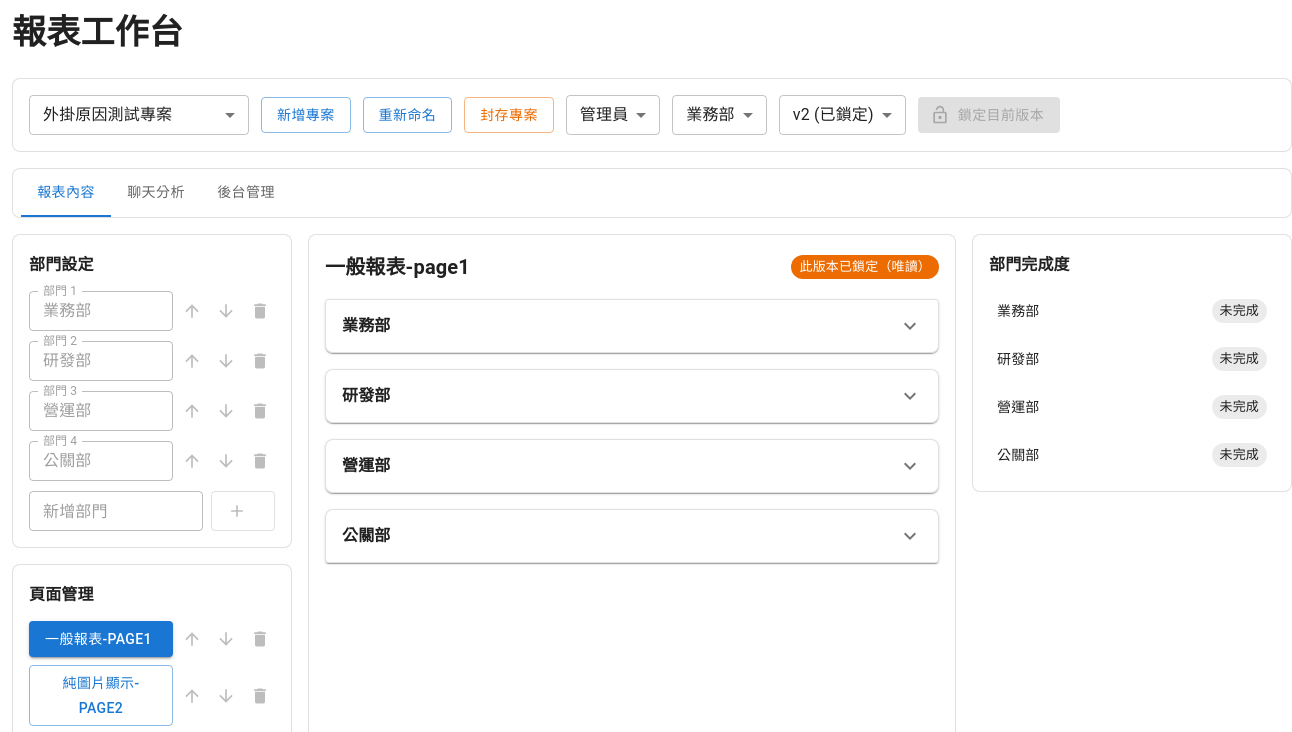
Scenario: ReportWorkspacePage backend management tab › requires overtime reason and defaults duration to 15 minutes
What coordinates should you click on to do the following:
click the tab "後台管理"
I would click on:
 (246, 193)
Its box is [201,169,291,217].
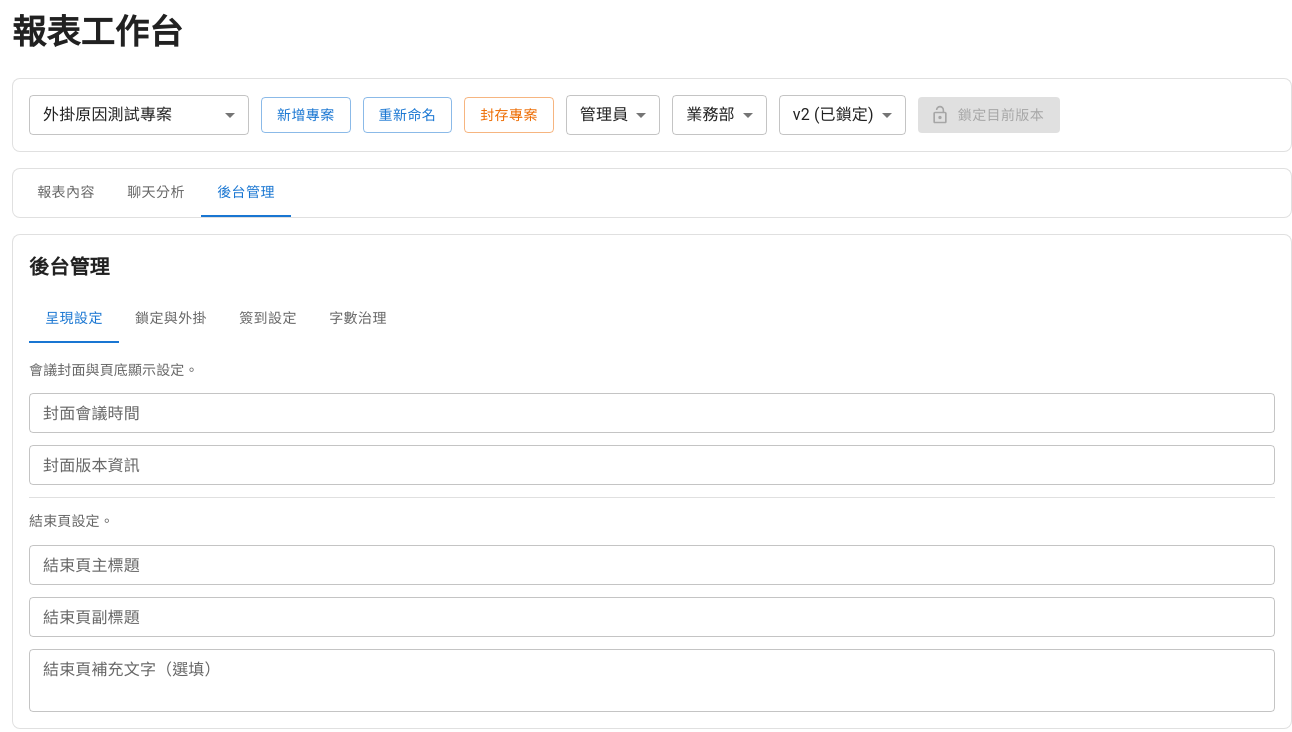
What coordinates should you click on to do the following:
click the tab "鎖定與外掛"
I would click on:
 (171, 319)
Its box is [119,295,223,343].
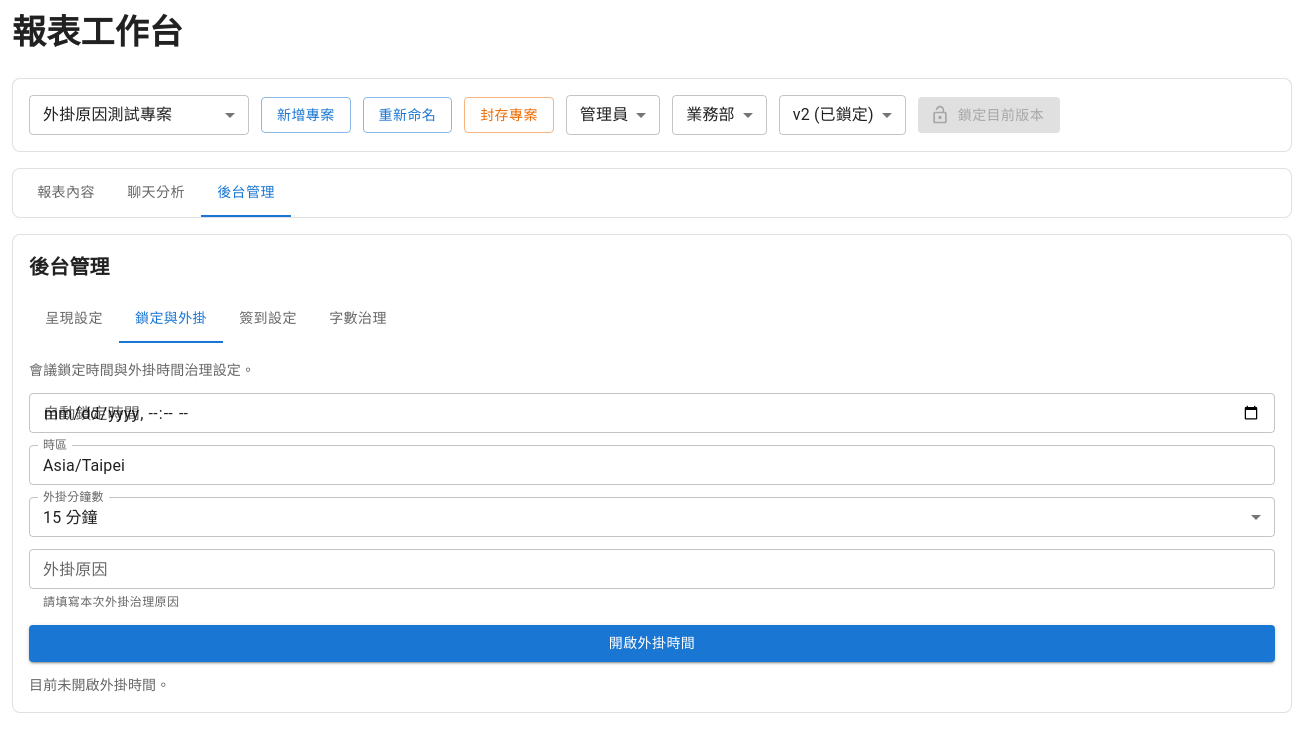
Now the dropdown named "外掛分鐘數" reads "15 分鐘", box [43,508,98,527]
What coordinates should you click on to do the following:
click the button "開啟外掛時間"
I would click on:
 (652, 644)
Its box is [29,625,1275,662].
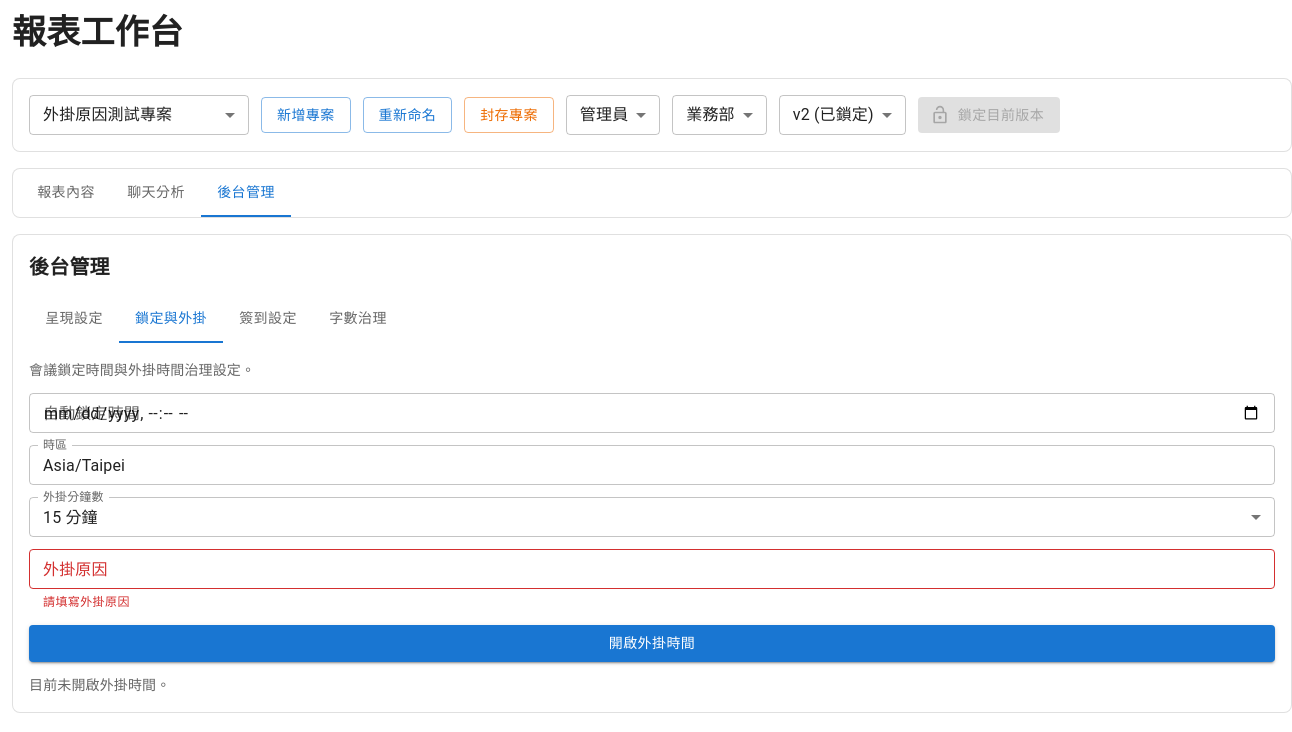
Now the text "請填寫外掛原因" is shown, box [43,595,130,609]
